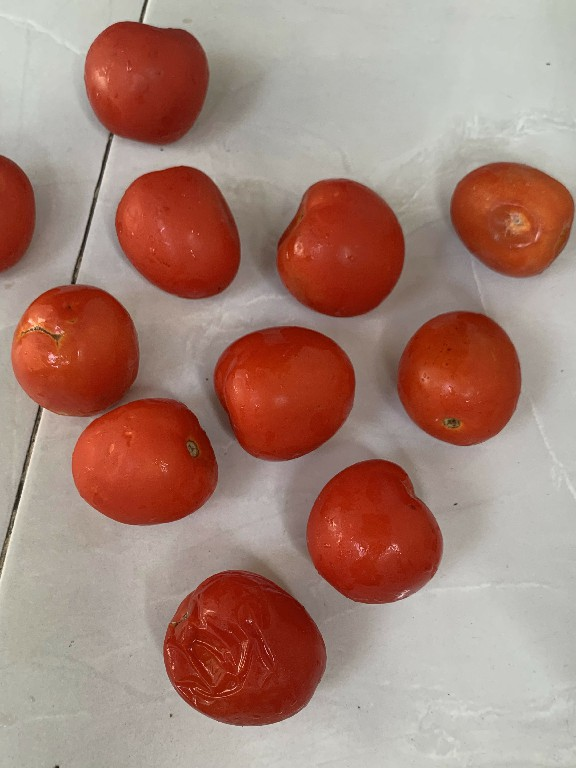NG: (148, 567, 328, 726), (6, 278, 137, 415), (440, 159, 576, 281)
OK: (204, 317, 362, 466), (307, 457, 445, 616), (269, 171, 410, 321), (68, 397, 221, 532), (115, 159, 247, 302), (74, 13, 211, 148), (399, 305, 520, 448)
